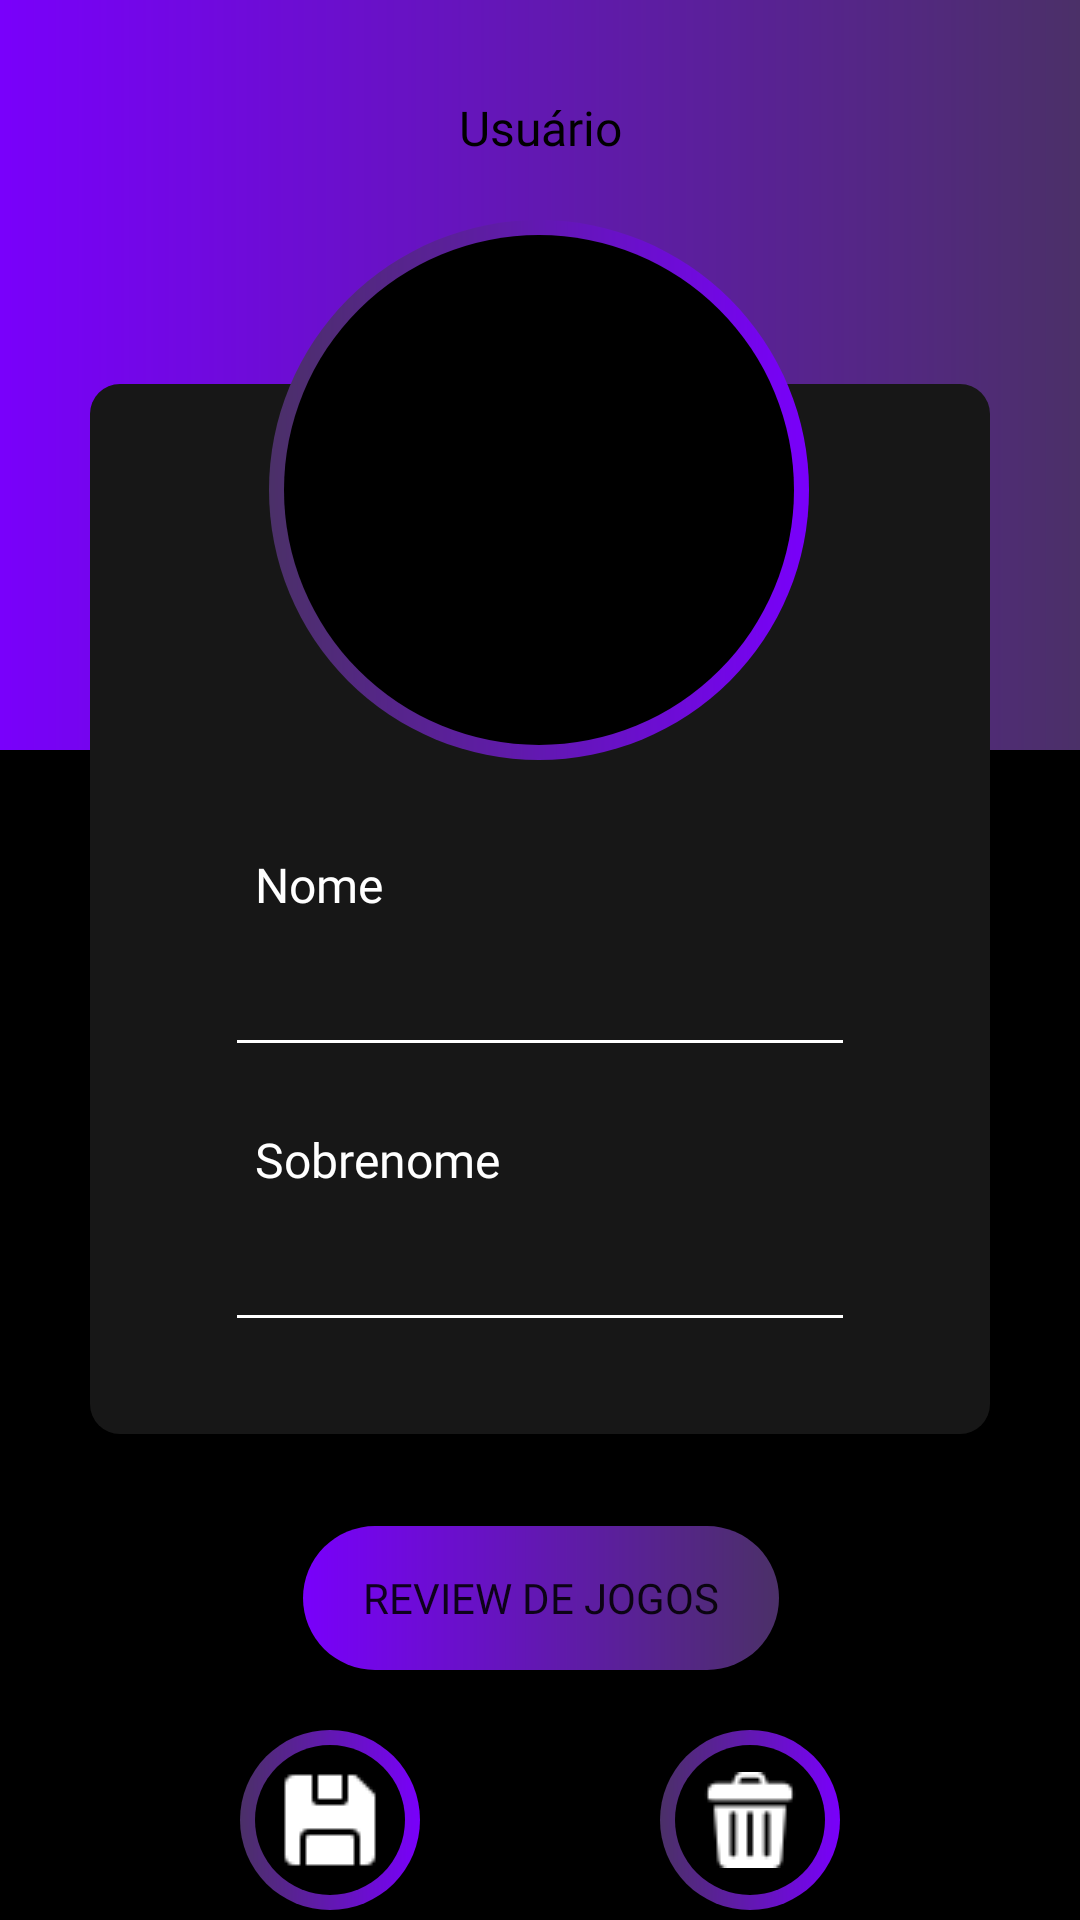

Where icons sit on this 1080x1920 app screen, as (x1, y1, x2, y2):
diskette: (240, 1730, 420, 1910)
trashcan: (660, 1730, 840, 1910)
